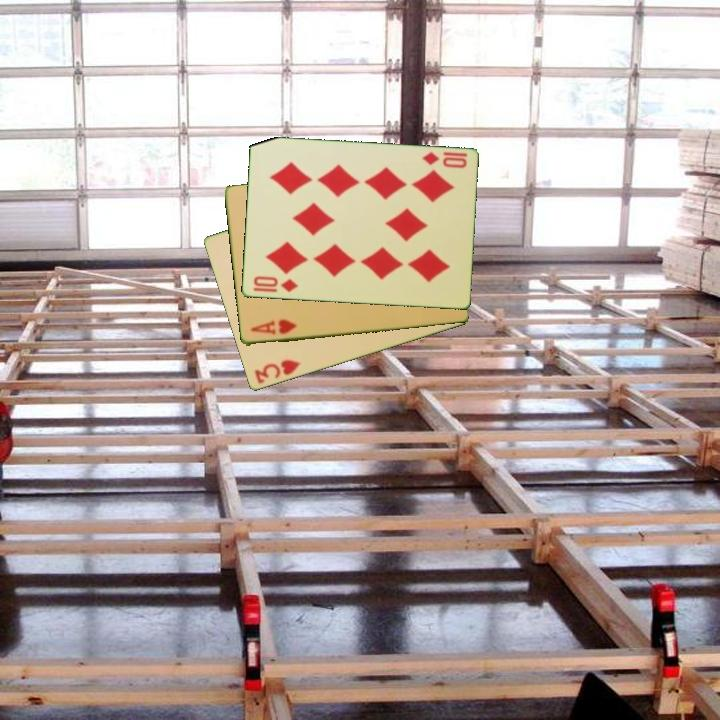10d: (419, 148, 469, 171), (250, 273, 301, 295)
3h: (251, 356, 303, 387)
Ah: (247, 316, 299, 338)
